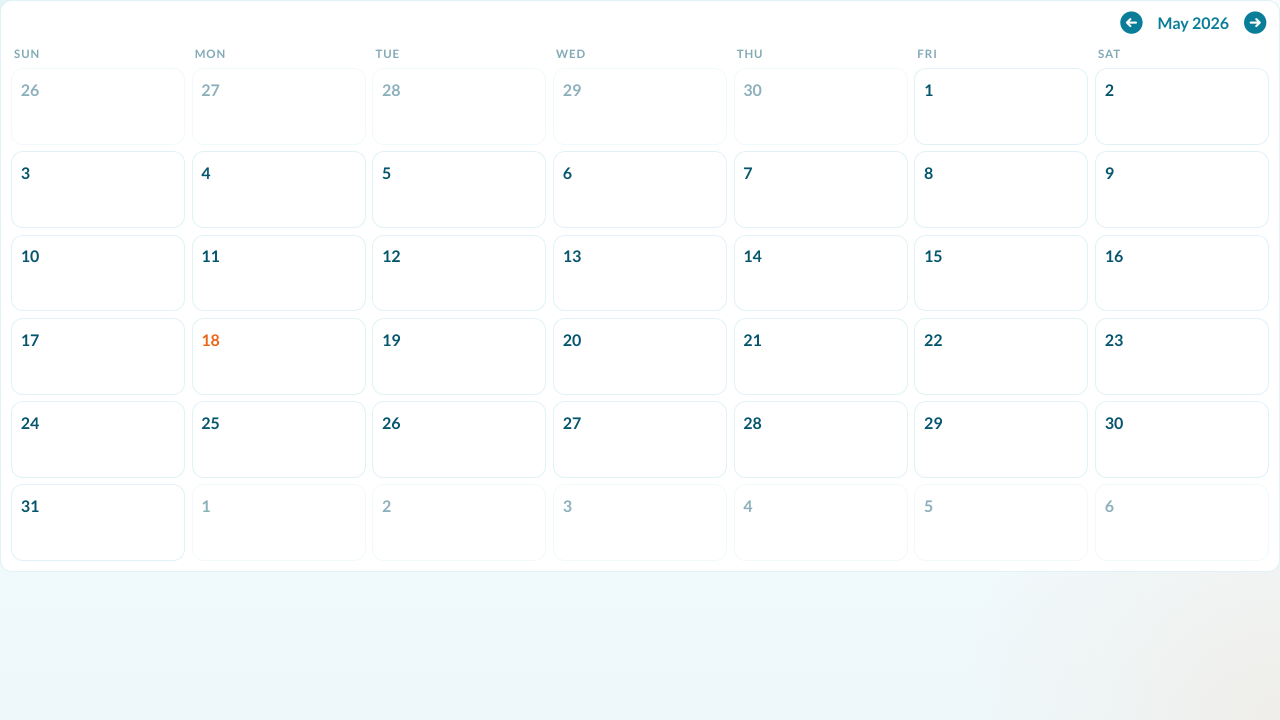
Test: MonthlyCalendar › moves between months
This screenshot has width=1280, height=720.
Click the button named "next month" at [1255, 23], box [1241,12,1269,34]
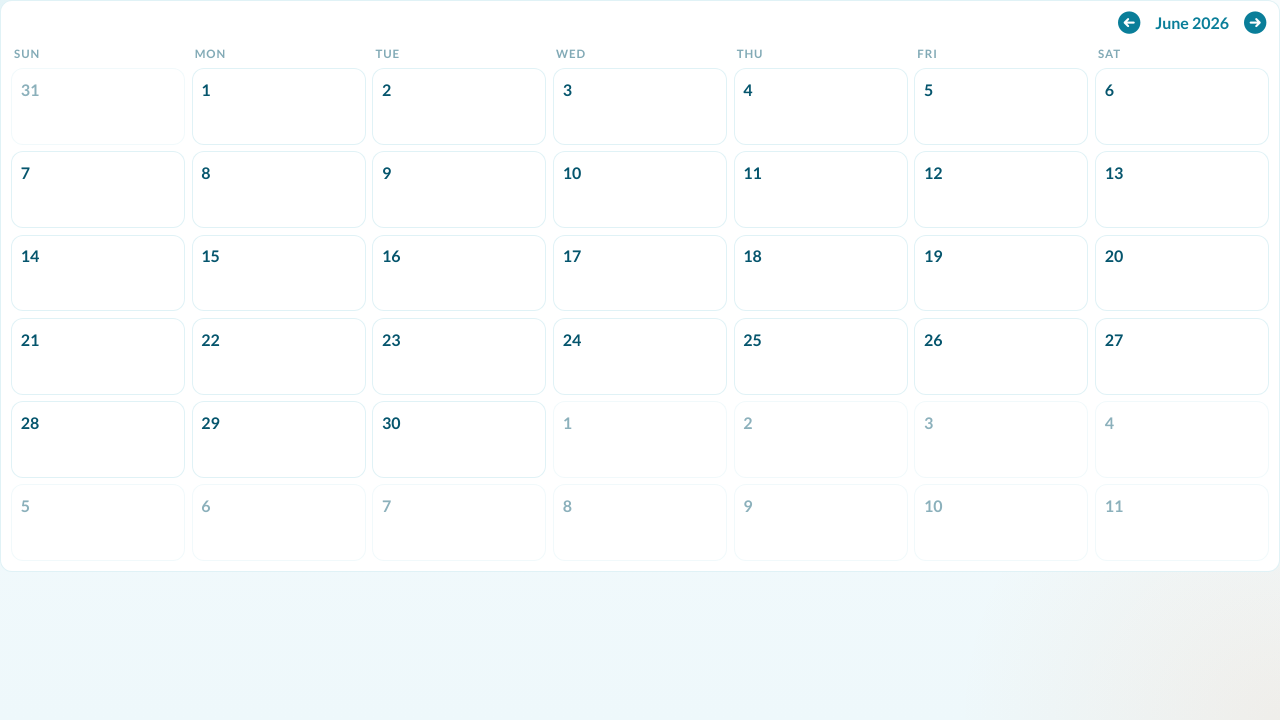
Now the text "June 2026" is shown, box [1155,11,1229,35]
